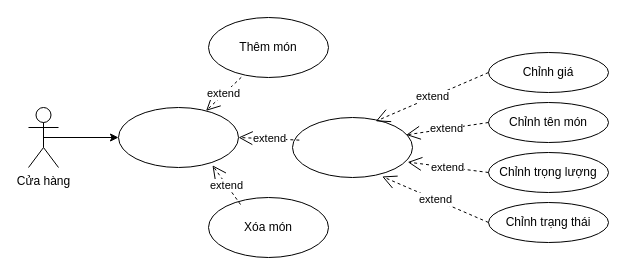
Image size: 626x275. Some labels were removed from this diagram. Here are the shapes that lost their labels. From the top down, the centre of each, then its label:
At (x=178, y=137): "Xem menu".
At (x=352, y=147): "Chỉnh sửa thông tin món".
